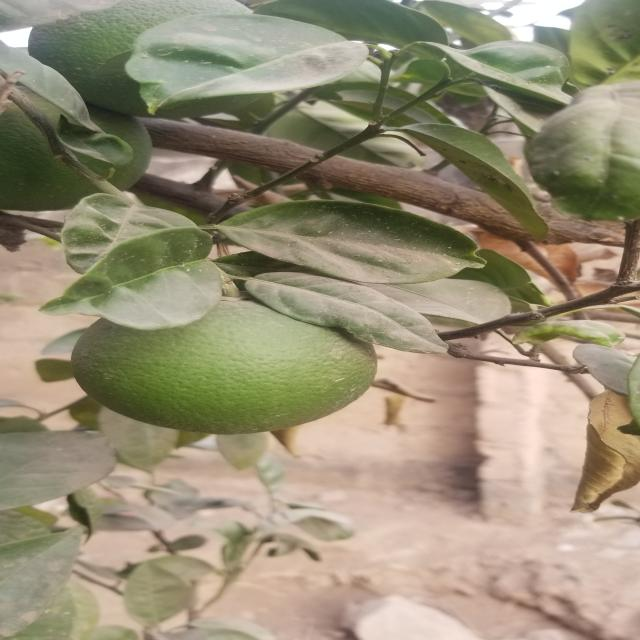Unripe: (72, 287, 375, 432)
